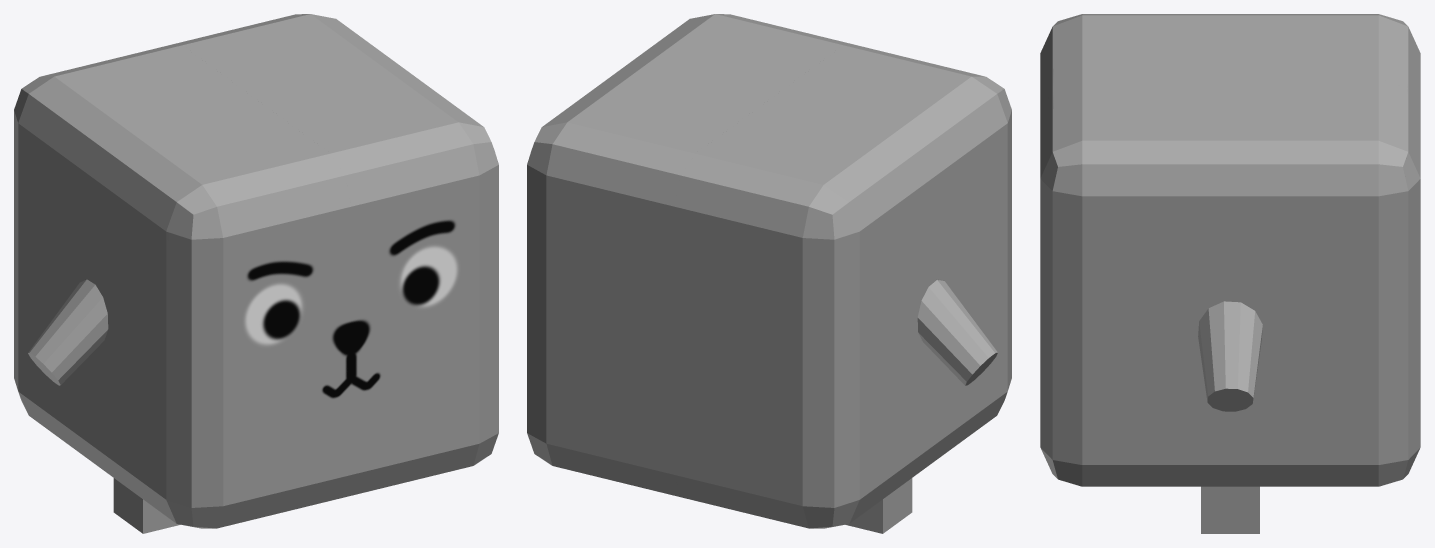
File: Player.fbx
3 views of the same model, side by side, from view 1: azimuth 30°, elevation 25°; view 2: azimuth 150°, elevation 25°; view 3: azimuth 270°, elevation 25° (orthographic).
Visible parts, largest first — view 1: Cube; view 2: Cube; view 3: Cube.
Boxes of the visible parts, x1=… form: Cube: x1=14, y1=14, x2=498, y2=533; Cube: x1=527, y1=14, x2=1011, y2=533; Cube: x1=1040, y1=14, x2=1420, y2=533.
Bounding box in the file's own units: 106 × 88.73 × 77.76.
1 material, 1 textured.
